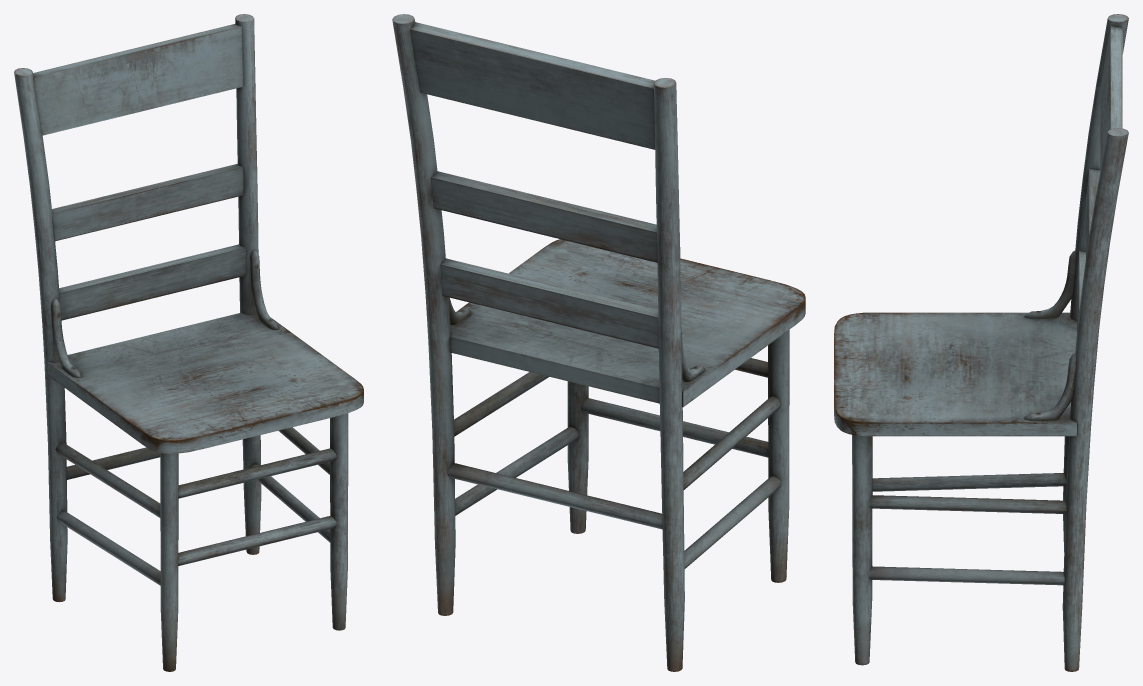
Rendered from old-chair.glb.
3 views of the same model, side by side, from view 1: azimuth 30°, elevation 25°; view 2: azimuth 150°, elevation 25°; view 3: azimuth 270°, elevation 25° (orthographic). The views are drawn at different scales.
Parts seen in each view (by area): view 1: old-chair; view 2: old-chair; view 3: old-chair.
Boxes of the visible parts, left/top/right/bottom form: old-chair: left=14, top=14, right=363, bottom=671; old-chair: left=392, top=14, right=805, bottom=671; old-chair: left=834, top=14, right=1128, bottom=671.
Size of the model in its own units: 0.55 by 1.14 by 0.56.
1 material, 1 textured.
